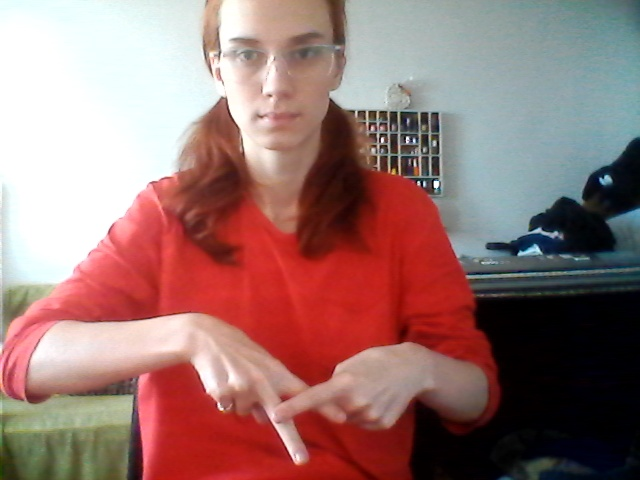a: (199, 345, 375, 472)
